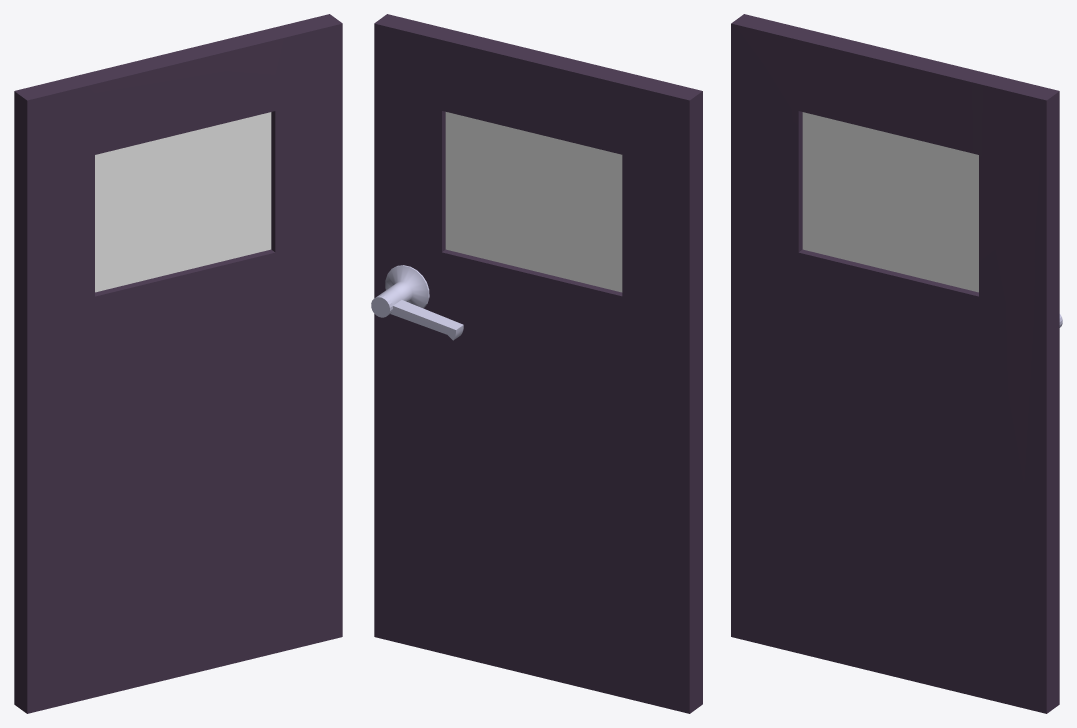
Rendered from wooddoor.fbx.
3 views of the same model, side by side, from view 1: azimuth 30°, elevation 25°; view 2: azimuth 150°, elevation 25°; view 3: azimuth 330°, elevation 25° (orthographic).
Parts seen in each view (by area): view 1: pCube3; view 2: pCube3; view 3: pCube3.
Part boxes in pixels (bbox=[...]): pCube3: bbox=[14, 14, 342, 713]; pCube3: bbox=[371, 14, 702, 713]; pCube3: bbox=[731, 14, 1062, 713].
Size of the model in its own units: 14 by 26 by 3.1.
